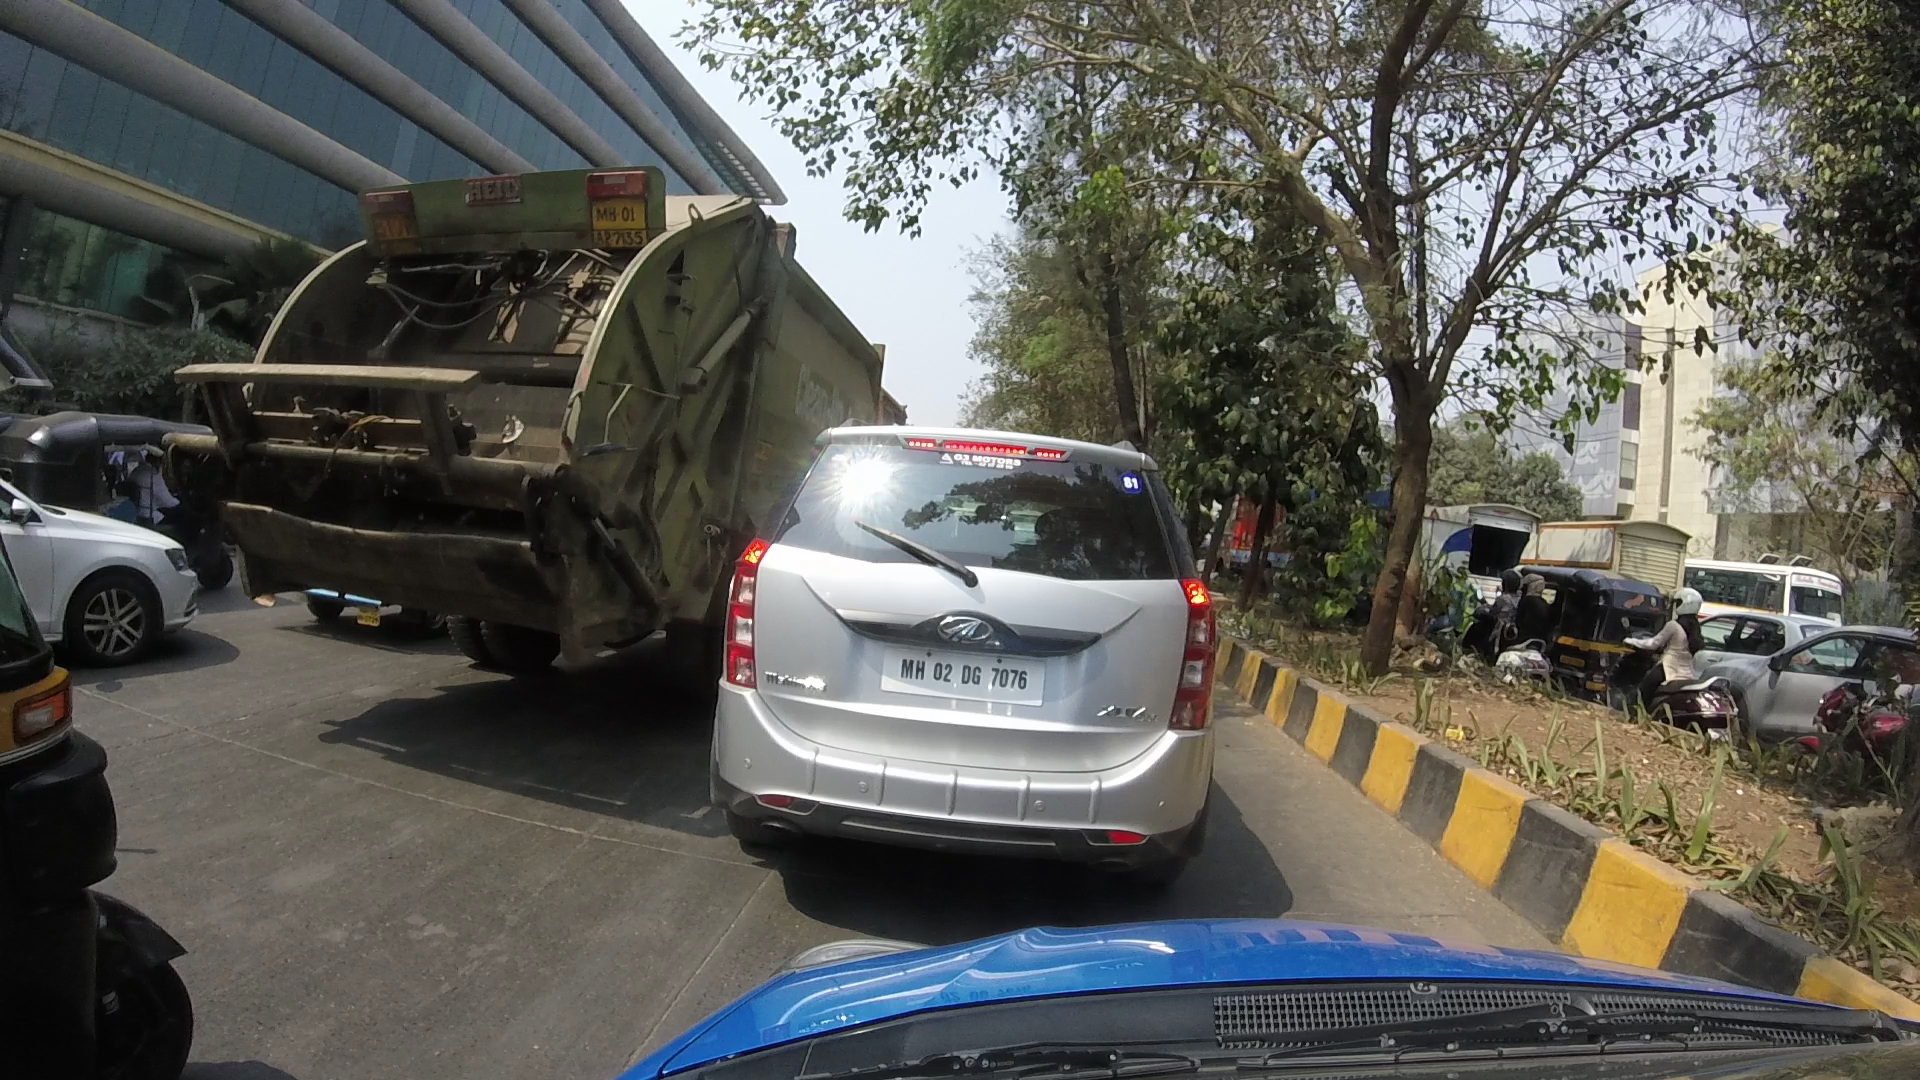bike/scooter: (1633, 585, 1747, 738), (1785, 674, 1920, 774), (1470, 567, 1551, 684)
car: (712, 390, 1221, 873), (1, 473, 195, 662), (1702, 626, 1912, 731)
rickshaw: (8, 560, 191, 1080), (15, 404, 227, 549), (1513, 559, 1663, 683)
truck: (179, 160, 913, 669)
